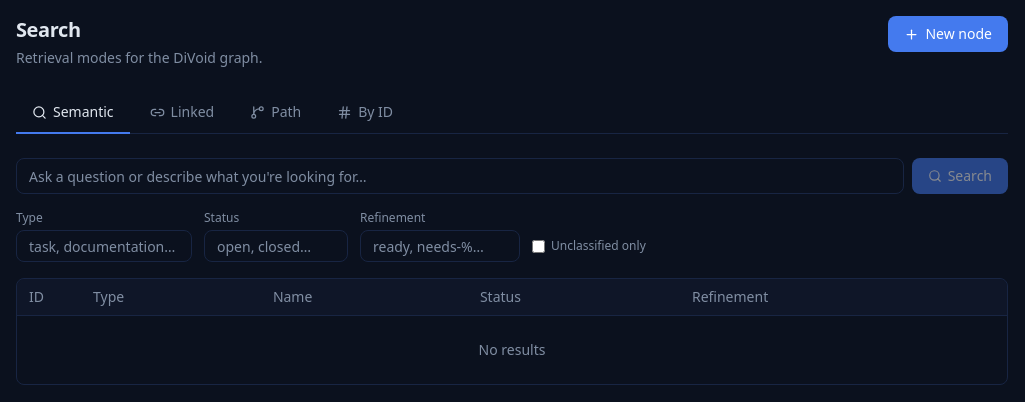
SearchPage › switching to linked tab shows a node id input
Click the tab "Linked": (182,113) [134,92,230,134]
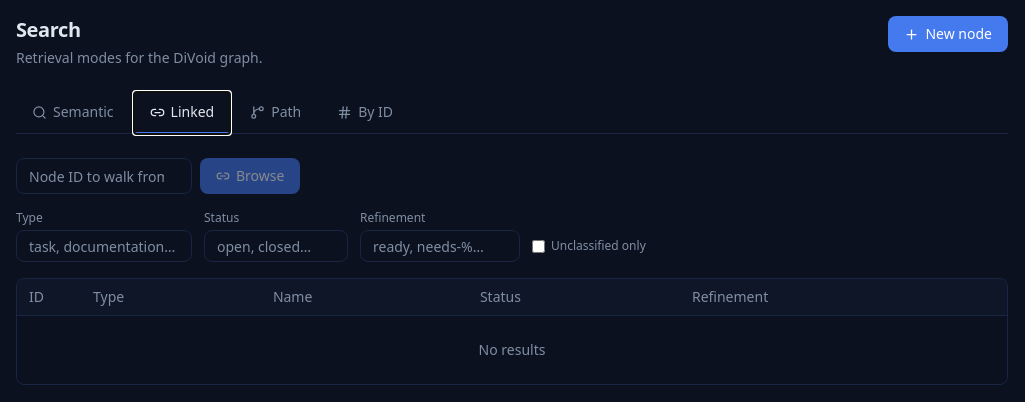
Check: the number field named "anchor node id" is shown, box [16,158,192,194]
